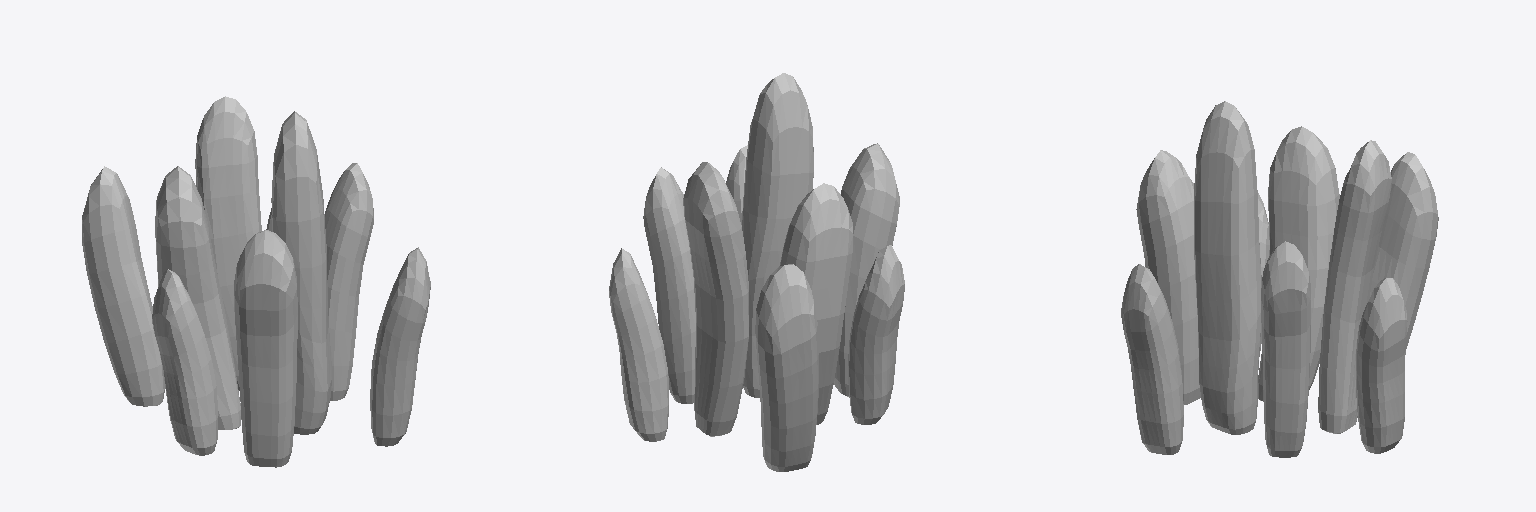
File: Seaweed_A_01_LOD0.obj
3 views of the same model, side by side, from view 1: azimuth 30°, elevation 25°; view 2: azimuth 150°, elevation 25°; view 3: azimuth 270°, elevation 25° (orthographic).
Visible parts, largest first — view 1: Seaweed_A_01_LOD0_Cylinder.319; view 2: Seaweed_A_01_LOD0_Cylinder.319; view 3: Seaweed_A_01_LOD0_Cylinder.319.
Boxes of the visible parts, x1=… form: Seaweed_A_01_LOD0_Cylinder.319: x1=82, y1=96, x2=430, y2=467; Seaweed_A_01_LOD0_Cylinder.319: x1=609, y1=73, x2=904, y2=471; Seaweed_A_01_LOD0_Cylinder.319: x1=1121, y1=101, x2=1438, y2=457.
Size of the model in its own units: 3.39 by 4.53 by 4.06.